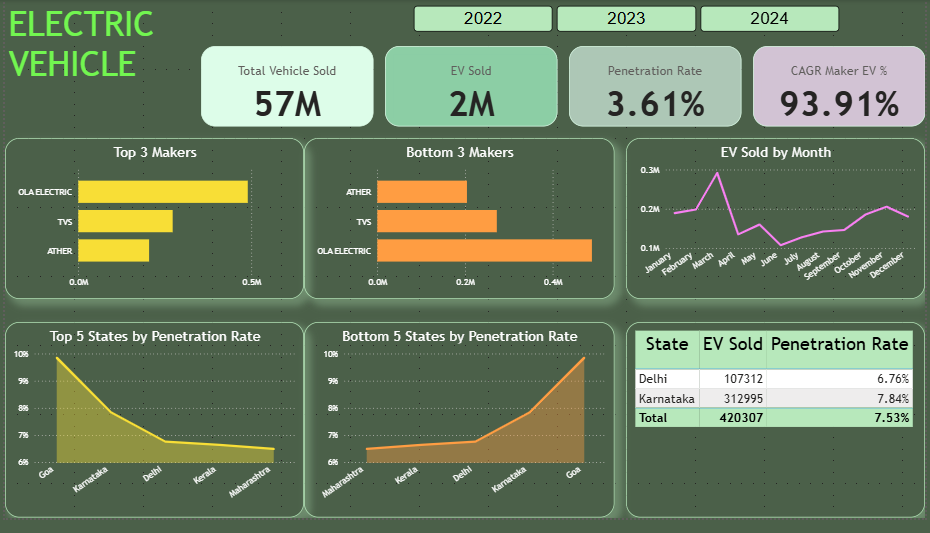

The page's visual inventory and layout, read from the dashboard file:
{"tool":"powerbi","page":{"name":"Page 2","canvas":[1280,720],"ordinal":1},"visuals":[{"type":"textbox","box":[0,0,240,128],"z":0},{"type":"ChicletSlicer1448559807354","fields":{"Category":["dim_date.fiscal_year"]},"box":[560,0,608,64],"z":1000},{"type":"cardVisual","fields":{"Data":["electric_vehicle_sales_by_state.Total Vehicle Sold"]},"box":[272,64,240,112],"z":2000},{"type":"cardVisual","fields":{"Data":["electric_vehicle_sales_by_state.Penetration Rate"]},"box":[784,64,240,112],"z":3000},{"type":"cardVisual","fields":{"Data":["electric_vehicle_sales_by_makers.CAGR Maker EV %"]},"box":[1040,64,240,112],"z":4000},{"type":"cardVisual","fields":{"Data":["electric_vehicle_sales_by_state.EV Sold"]},"box":[528,64,240,112],"z":5000},{"type":"clusteredBarChart","title":"Top 3 Makers","fields":{"Category":["electric_vehicle_sales_by_makers.maker"],"Y":["electric_vehicle_sales_by_state.EV Sold Makers"]},"box":[0,192,416,224],"z":6000},{"type":"clusteredBarChart","title":"Bottom 3 Makers","fields":{"Category":["electric_vehicle_sales_by_makers.maker"],"Y":["electric_vehicle_sales_by_state.EV Sold Makers"]},"box":[416,192,432,224],"z":7000},{"type":"areaChart","title":"Top 5 States by Penetration Rate","fields":{"Y":["electric_vehicle_sales_by_state.Penetration Rate"],"Category":["electric_vehicle_sales_by_state.state"]},"box":[0,448,416,272],"z":8000},{"type":"areaChart","title":"Bottom 5 States by Penetration Rate","fields":{"Y":["electric_vehicle_sales_by_state.Penetration Rate"],"Category":["electric_vehicle_sales_by_state.state"]},"box":[416,448,432,272],"z":9000},{"type":"lineChart","fields":{"Category":["dim_date.date.Variation.Date Hierarchy.Month"],"Y":["electric_vehicle_sales_by_state.EV Sold"]},"box":[864,192,416,224],"z":10000},{"type":"tableEx","fields":{"Values":["electric_vehicle_sales_by_state.state","electric_vehicle_sales_by_state.EV Sold","electric_vehicle_sales_by_state.Penetration Rate"]},"box":[864,448,416,272],"z":11000}]}

Visuals, with their boxes in screenshot pixels (x1, y1, x2, y2), scaled from the page's 1280x720 canvas onto the 930x533 screenshot:
textbox: locate(0, 0, 174, 95)
ChicletSlicer1448559807354 - dim_date.fiscal_year: locate(407, 0, 849, 47)
cardVisual - electric_vehicle_sales_by_state.Total Vehicle Sold: locate(198, 47, 372, 130)
cardVisual - electric_vehicle_sales_by_state.Penetration Rate: locate(570, 47, 744, 130)
cardVisual - electric_vehicle_sales_by_makers.CAGR Maker EV %: locate(756, 47, 929, 130)
cardVisual - electric_vehicle_sales_by_state.EV Sold: locate(384, 47, 558, 130)
"Top 3 Makers" clusteredBarChart: locate(0, 142, 302, 308)
"Bottom 3 Makers" clusteredBarChart: locate(302, 142, 616, 308)
"Top 5 States by Penetration Rate" areaChart: locate(0, 332, 302, 532)
"Bottom 5 States by Penetration Rate" areaChart: locate(302, 332, 616, 532)
lineChart - dim_date.date.Variation.Date Hierarchy.Month x electric_vehicle_sales_by_state.EV Sold: locate(628, 142, 929, 308)
tableEx - electric_vehicle_sales_by_state.state x electric_vehicle_sales_by_state.EV Sold: locate(628, 332, 929, 532)
